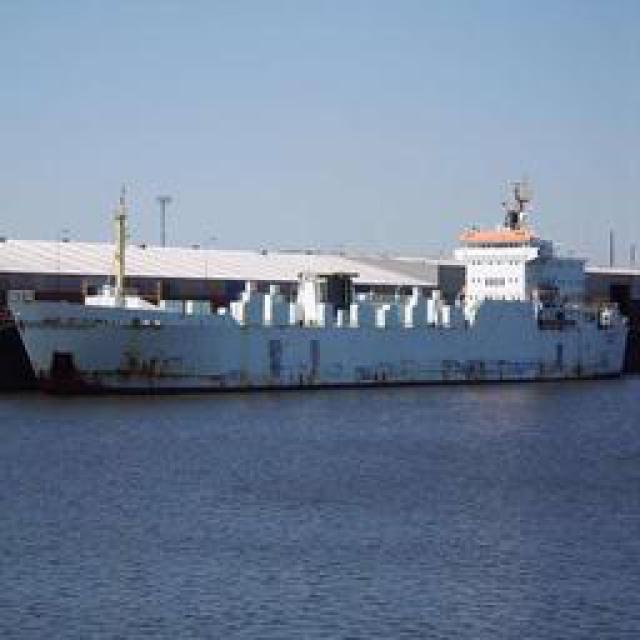Ship: (25, 189, 630, 394)
